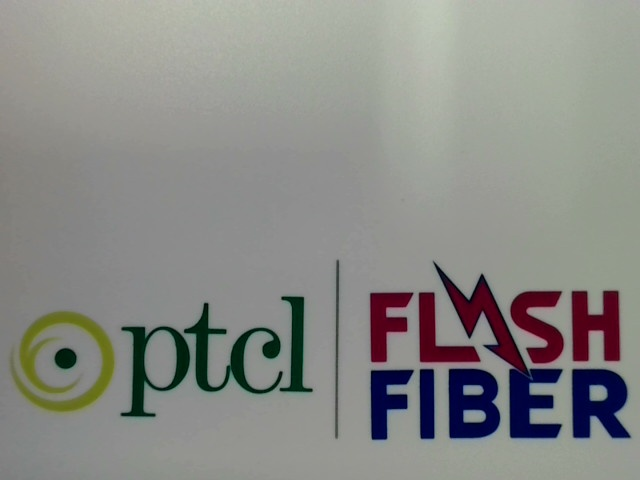BF_PTCL: (5, 281, 316, 420)
